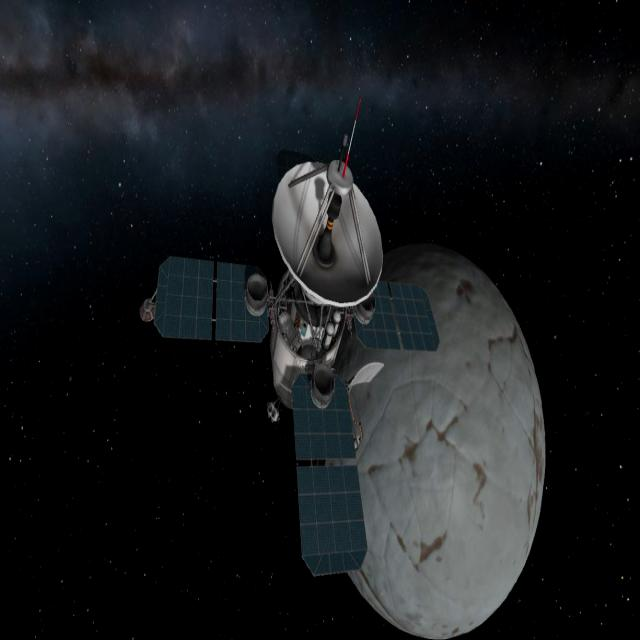medium_debris: (119, 92, 459, 578)
